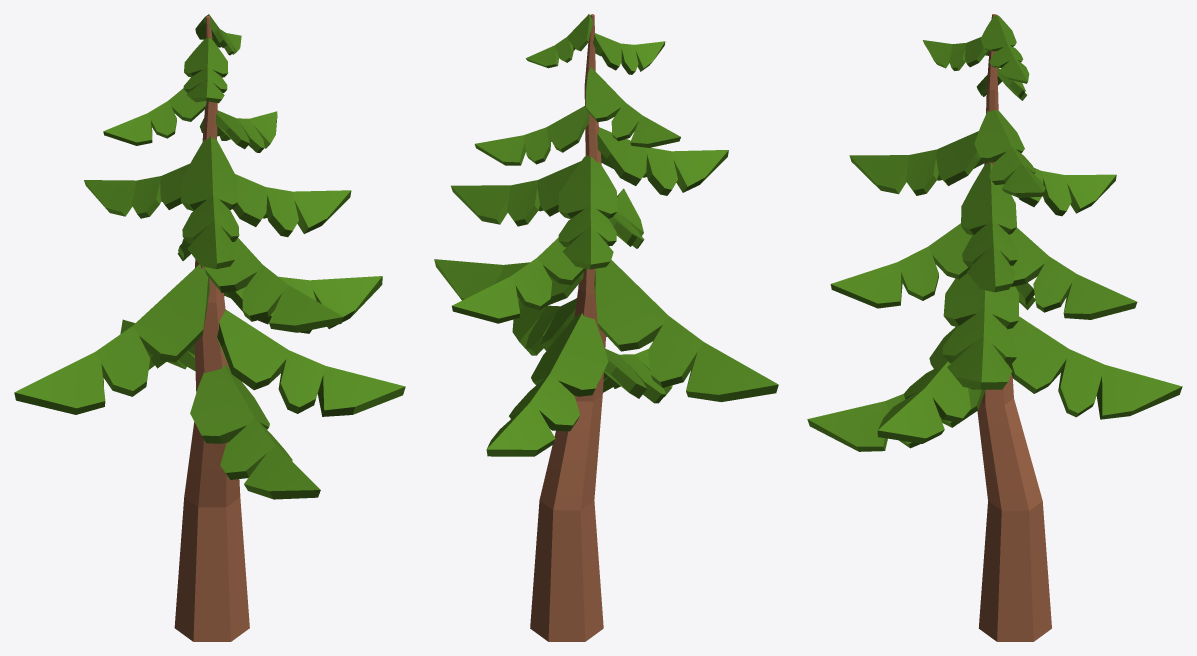
Rendered from dm11.pine.v2.01.glb.
3 renders of one model, left to right at view 1: azimuth 30°, elevation 25°; view 2: azimuth 150°, elevation 25°; view 3: azimuth 270°, elevation 25°, orthographic. The views are drawn at different scales.
Parts seen in each view (by area): view 1: PP_Tree_02.001_PP_Standard_Material_0; view 2: PP_Tree_02.001_PP_Standard_Material_0; view 3: PP_Tree_02.001_PP_Standard_Material_0.
Boxes of the visible parts, x1=… form: PP_Tree_02.001_PP_Standard_Material_0: x1=14, y1=14, x2=405, y2=641; PP_Tree_02.001_PP_Standard_Material_0: x1=434, y1=14, x2=778, y2=641; PP_Tree_02.001_PP_Standard_Material_0: x1=807, y1=14, x2=1182, y2=641.
Bounding box in the file's own units: 4.27 × 7.07 × 3.96.
1 material, 1 textured.
